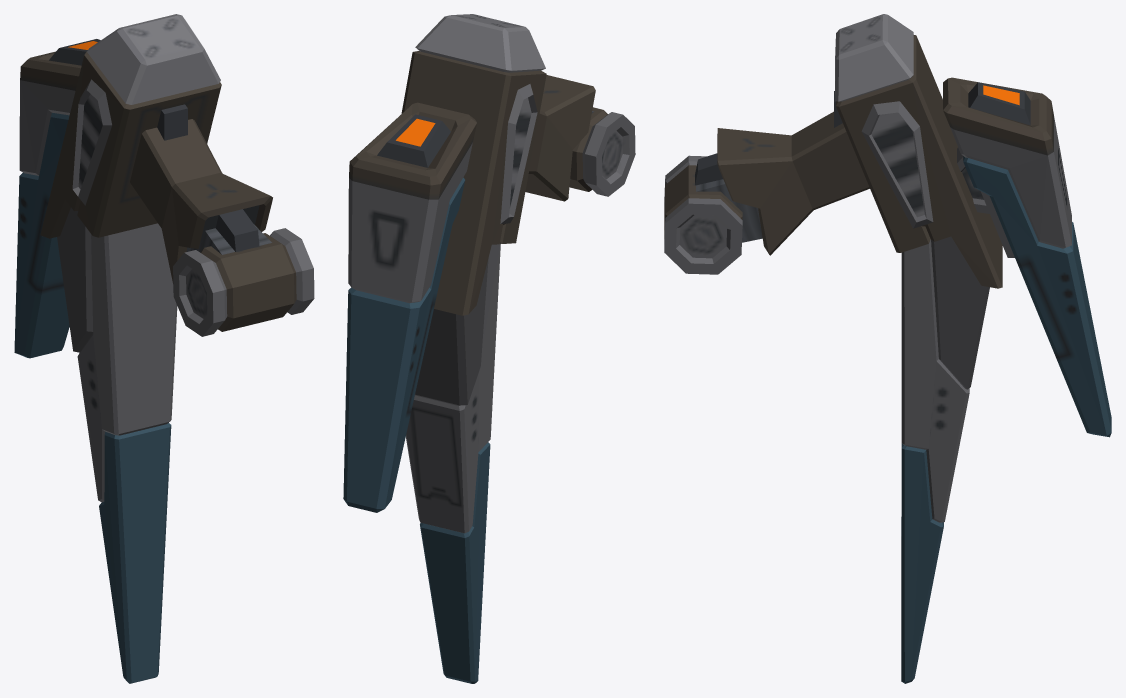
The model's file is SM_Mech_Back_01_Attach_Jetpack_02.fbx.
3 views of the same model, side by side, from view 1: azimuth 30°, elevation 25°; view 2: azimuth 150°, elevation 25°; view 3: azimuth 270°, elevation 25° (orthographic). The views are drawn at different scales.
Visible parts, largest first — view 1: SM_Mech_Back_01_Attach_Jetpack_02; view 2: SM_Mech_Back_01_Attach_Jetpack_02; view 3: SM_Mech_Back_01_Attach_Jetpack_02.
Boxes of the visible parts, x1,y1,x2,y2 form: SM_Mech_Back_01_Attach_Jetpack_02: [14, 14, 314, 683]; SM_Mech_Back_01_Attach_Jetpack_02: [343, 14, 635, 683]; SM_Mech_Back_01_Attach_Jetpack_02: [664, 14, 1111, 683].
Size of the model in its own units: 45.1 by 257 by 161.
